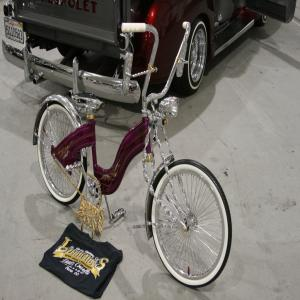Vehicle-registration-plate: (5, 18, 24, 43)
